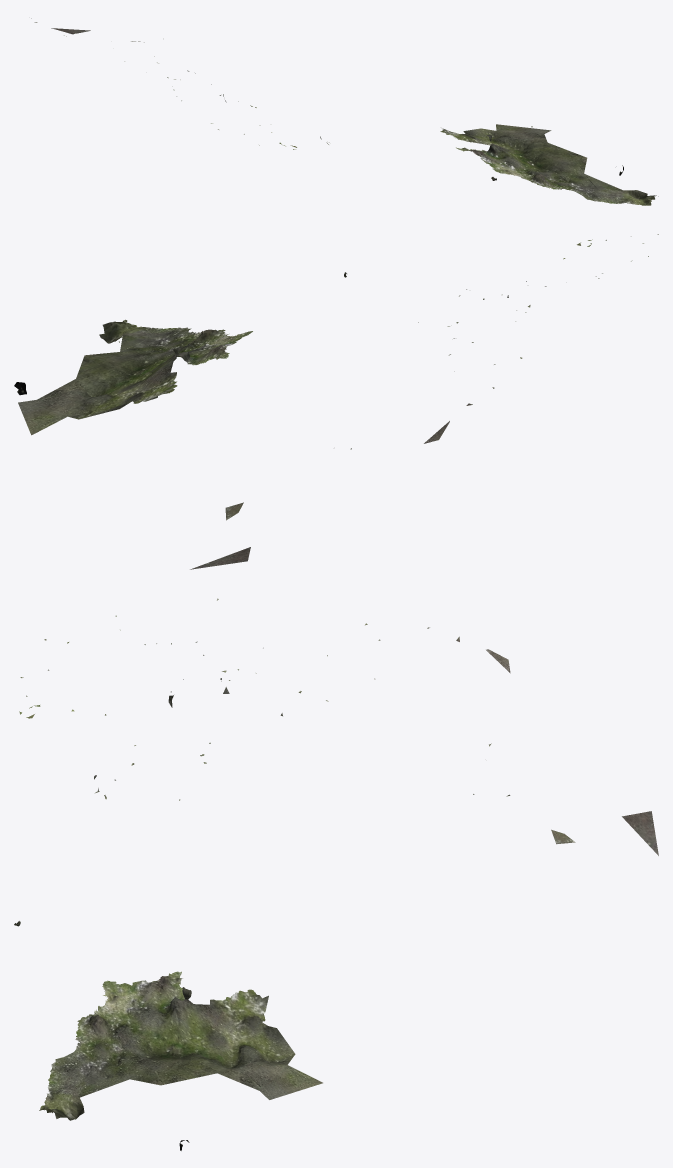
3 renders of one model, top to bottom at view 1: azimuth 30°, elevation 25°; view 2: azimuth 150°, elevation 25°; view 3: azimuth 270°, elevation 25°, orthographic. The views are drawn at different scales.
Bounding box in the file's own units: 60.83 × 26.48 × 57.37.
Materials: 1 (1 with a texture image).
